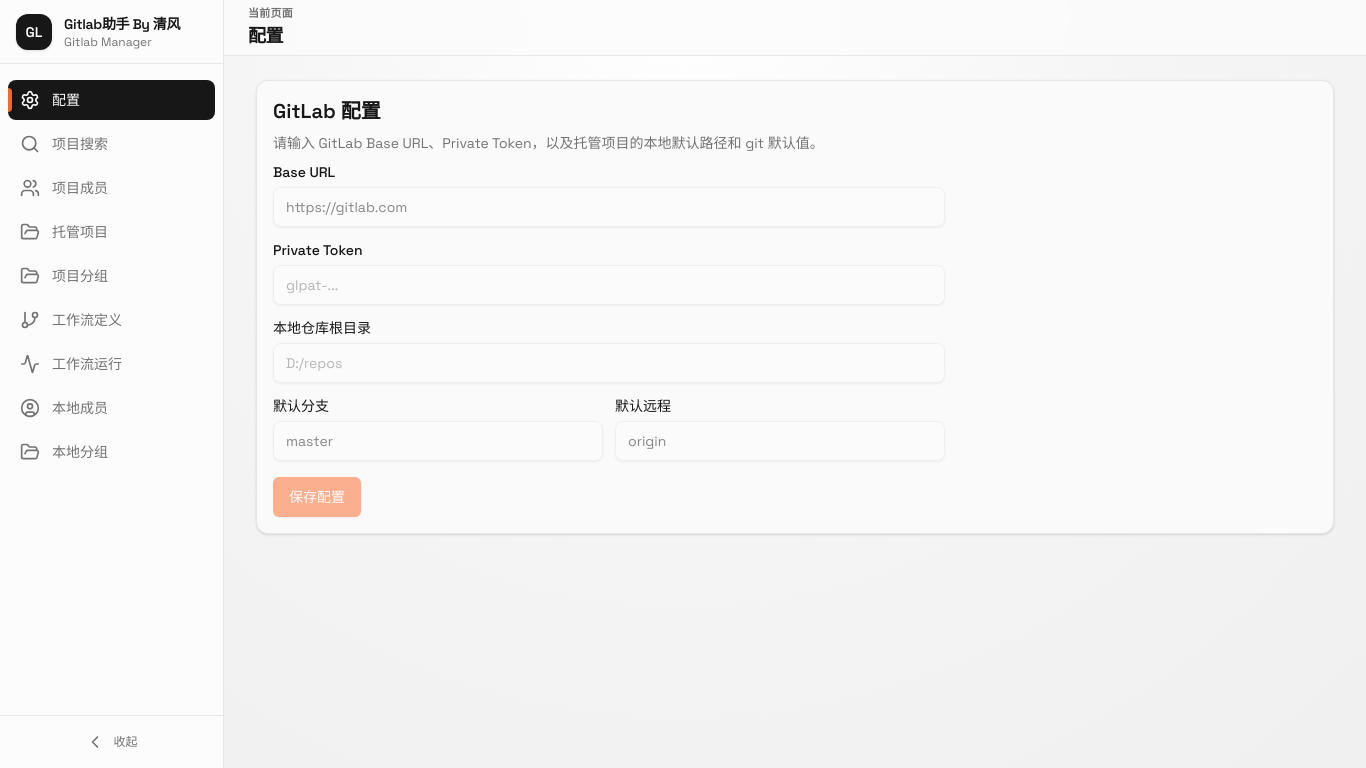
Scenario: pipeline definition upgrade smoke › jumps to the pipeline run monitor after starting a run from the definition list
Click the button titled "工作流定义" at (112, 320), box [8,300,215,340]
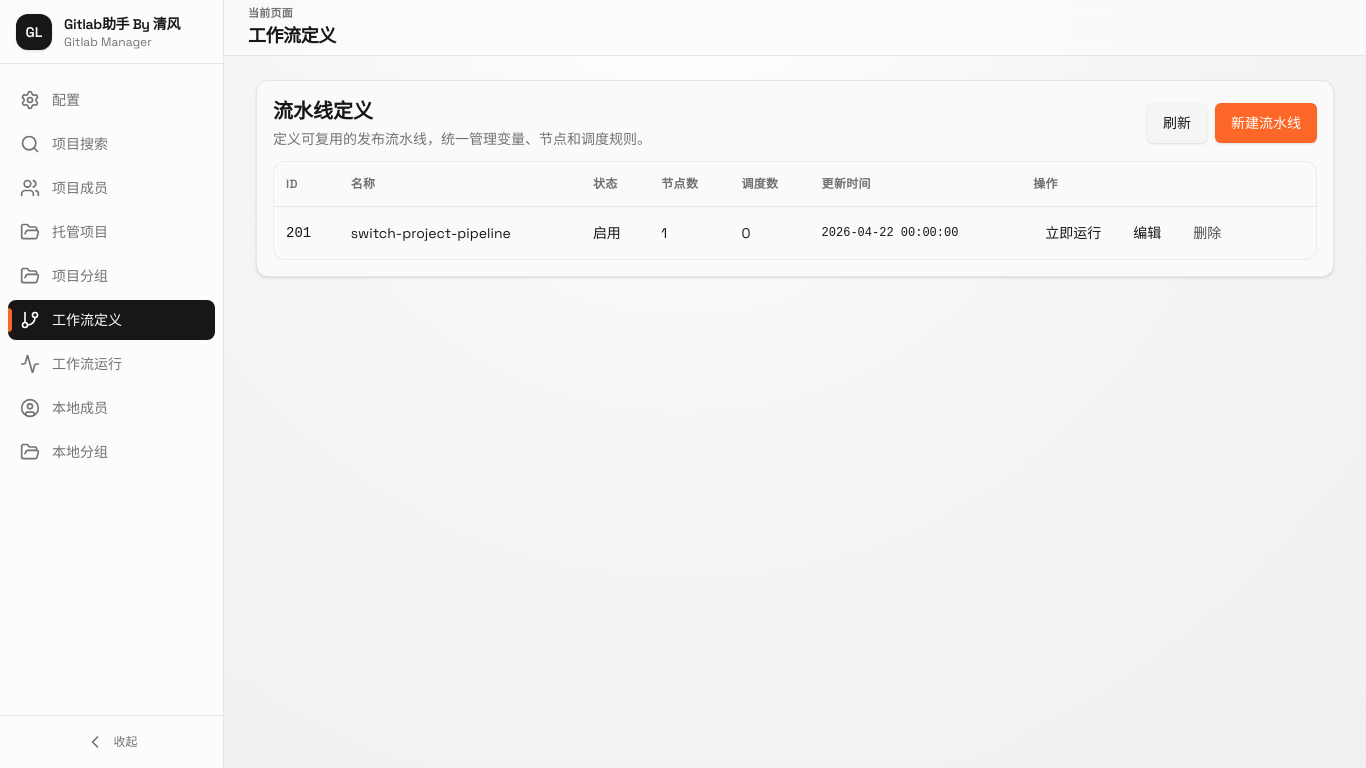
Click the button "立即运行" at (1073, 232), box [1033,214,1113,250]
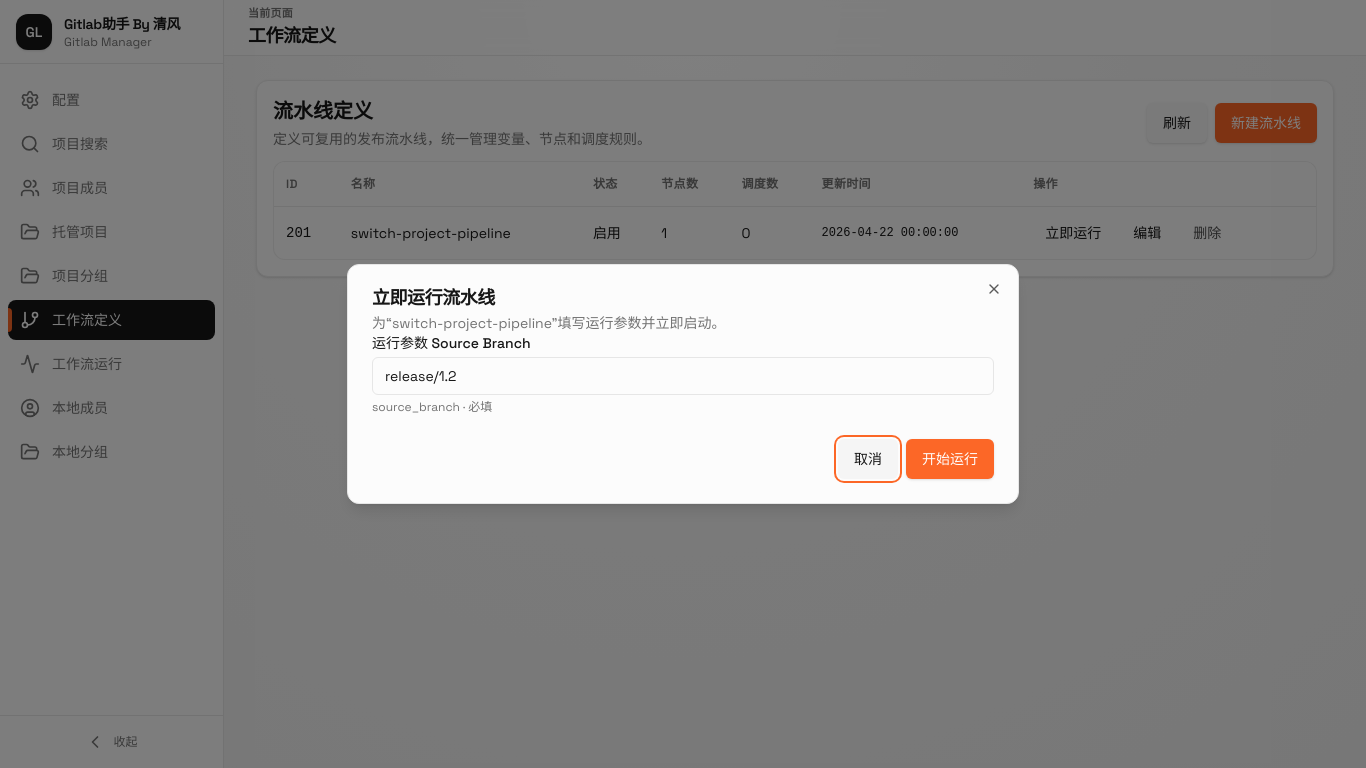
Type "release/1.3" into the field labelled "运行参数 Source Branch" at (683, 376), box [372,357,994,395]
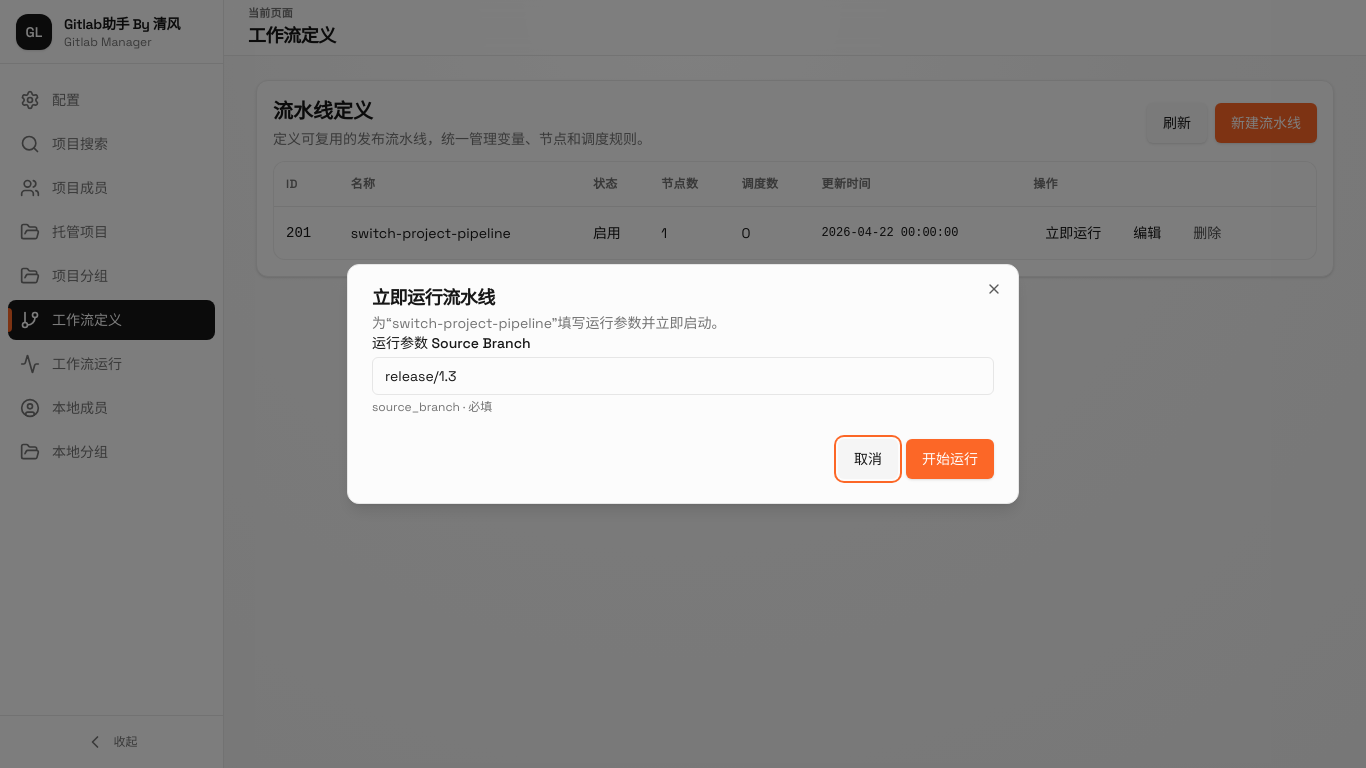
Click the button "开始运行" at (950, 459), box [906,439,994,479]
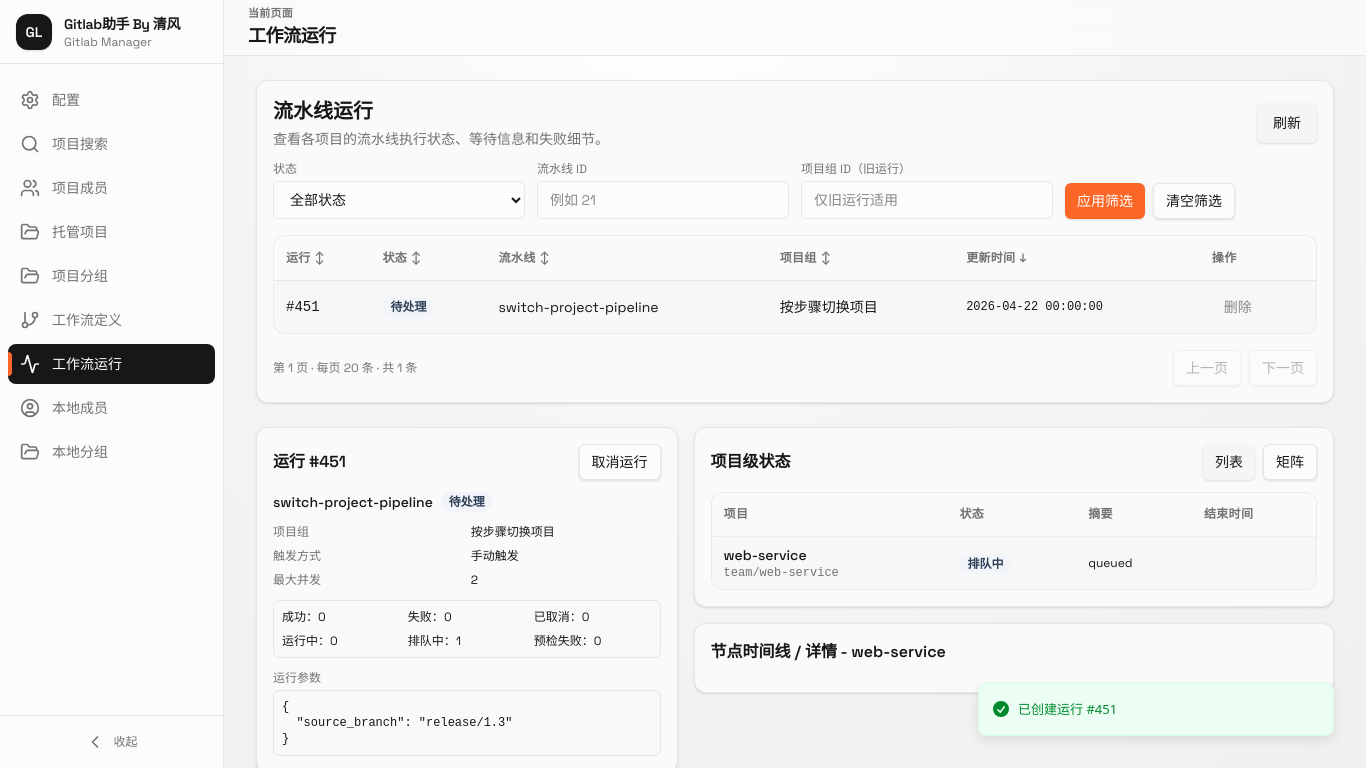
Check: the heading "流水线运行" is shown, box [273,98,373,124]
Check: the text "项目组 ID（旧运行）" is shown, box [801,161,911,177]
Check: the heading "运行 #451" is shown, box [273,450,346,474]
